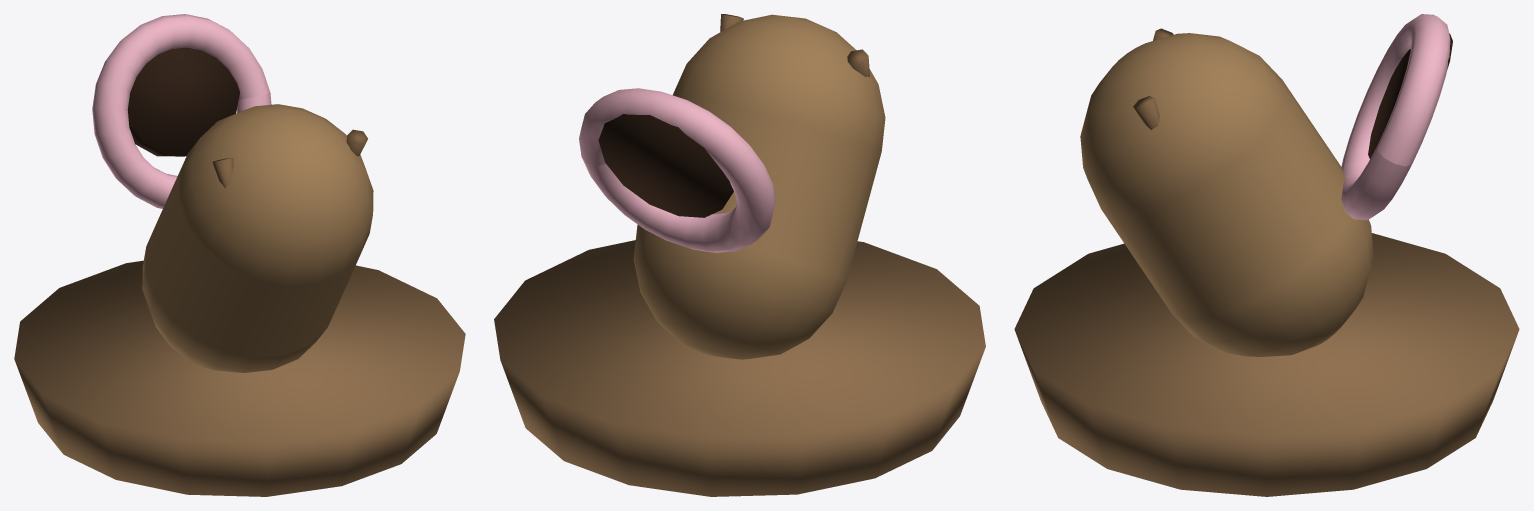
The model's file is b_nydus_worm.glb.
The picture shows the model from 3 angles, left to right: view 1: azimuth 30°, elevation 25°; view 2: azimuth 150°, elevation 25°; view 3: azimuth 270°, elevation 25°; orthographic projection. The views are drawn at different scales.
Parts seen in each view (by area): view 1: ny_mound.001, ny_worm.001, ny_teeth.001, ny_hole.001; view 2: ny_mound.001, ny_worm.001, ny_teeth.001, ny_hole.001; view 3: ny_mound.001, ny_worm.001, ny_teeth.001, ny_hole.001, ny_sp1.001.
Boxes of the visible parts, x1,y1,x2,y2 form: ny_mound.001: [14, 260, 465, 496]; ny_worm.001: [142, 104, 373, 372]; ny_teeth.001: [92, 14, 271, 208]; ny_hole.001: [127, 47, 239, 156]; ny_mound.001: [494, 240, 985, 496]; ny_worm.001: [633, 14, 885, 359]; ny_teeth.001: [579, 88, 775, 252]; ny_hole.001: [598, 114, 733, 217]; ny_mound.001: [1014, 233, 1519, 496]; ny_worm.001: [1080, 33, 1373, 356]; ny_teeth.001: [1341, 14, 1450, 220]; ny_hole.001: [1368, 33, 1452, 158]; ny_sp1.001: [1133, 96, 1159, 129].
Size of the model in its own units: 1.9 by 1.56 by 1.9.
